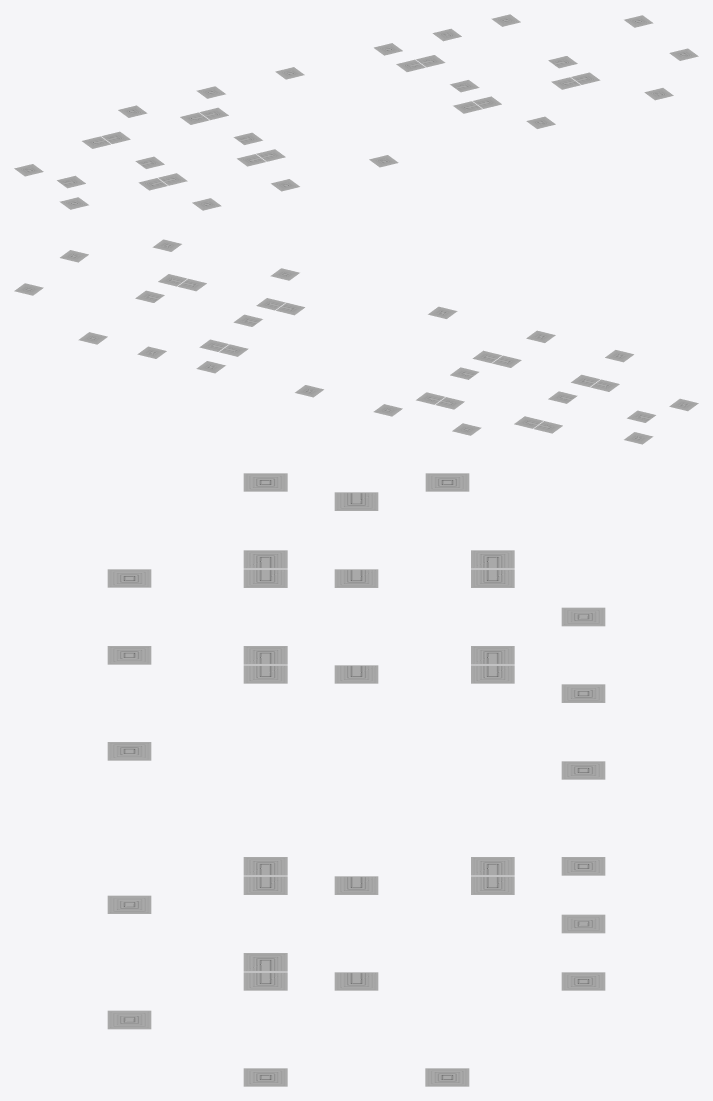
Rendered from Room_Vent.glb.
3 views of the same model, one above another, from view 1: azimuth 30°, elevation 25°; view 2: azimuth 150°, elevation 25°; view 3: azimuth 270°, elevation 25° (orthographic). The views are drawn at different scales.
Size of the model in its own units: 19.18 by 4.66e-07 by 6.58.
Materials: 2 (2 with a texture image).
